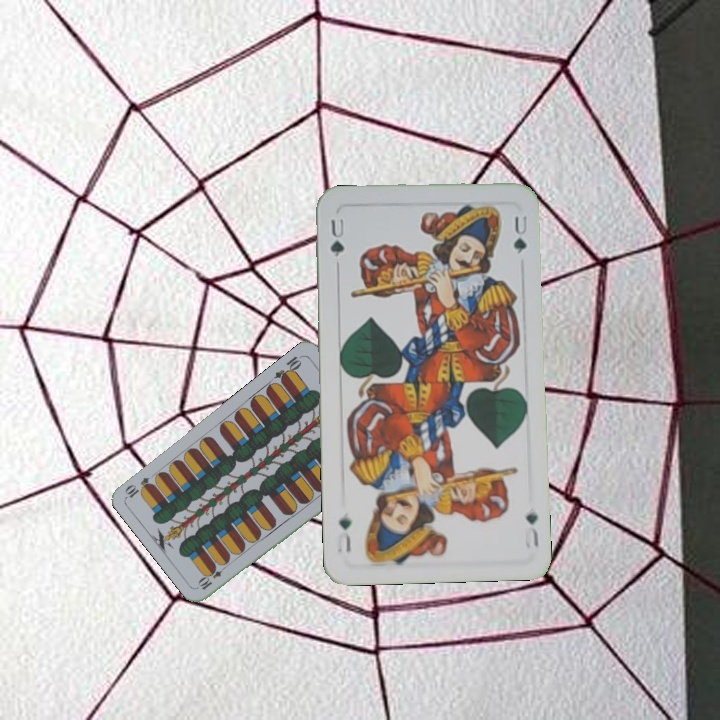E10: (270, 351, 305, 385), (194, 560, 230, 592)
GU: (520, 508, 542, 551), (326, 214, 347, 259)
